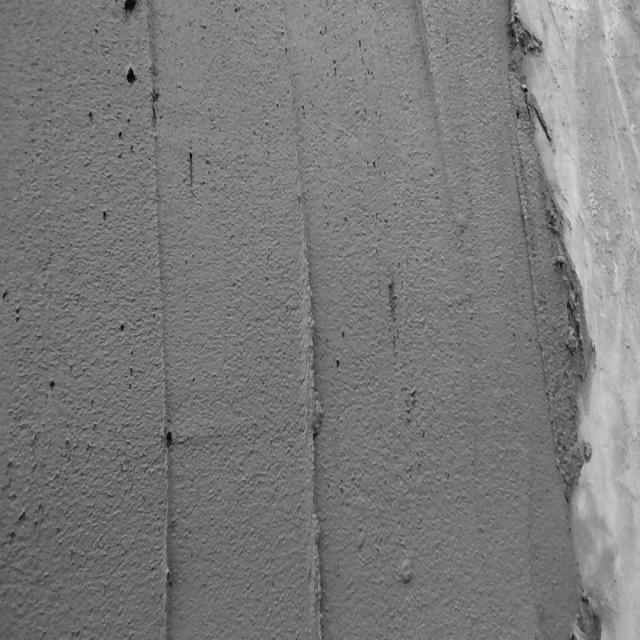trowels marks: (288, 63, 330, 640), (144, 0, 182, 633)
